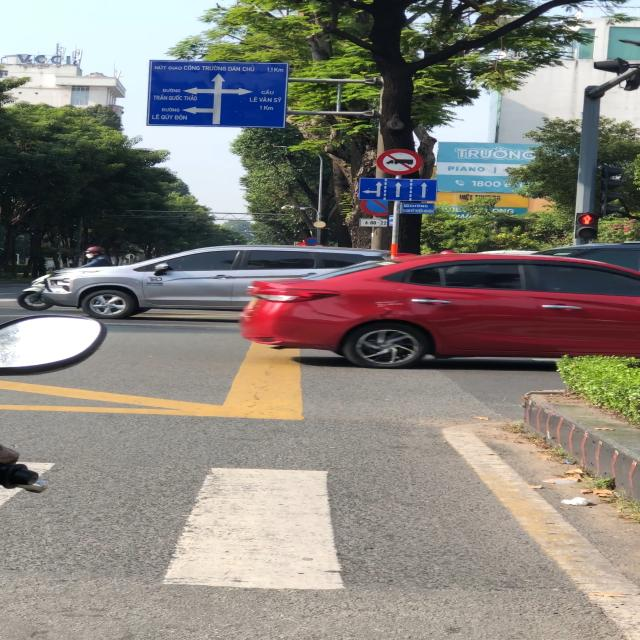Bien bao cam xe so-mi ro-mooc: (374, 148, 428, 178)
